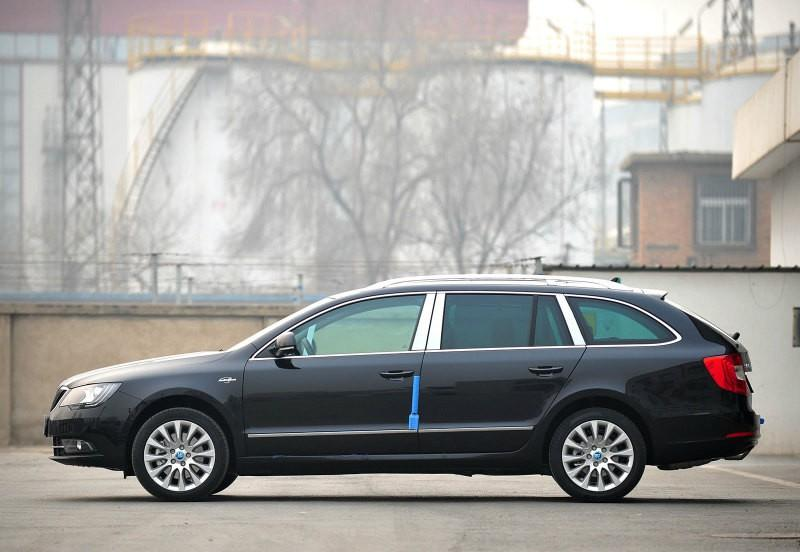Wagon: (47, 274, 761, 504)
